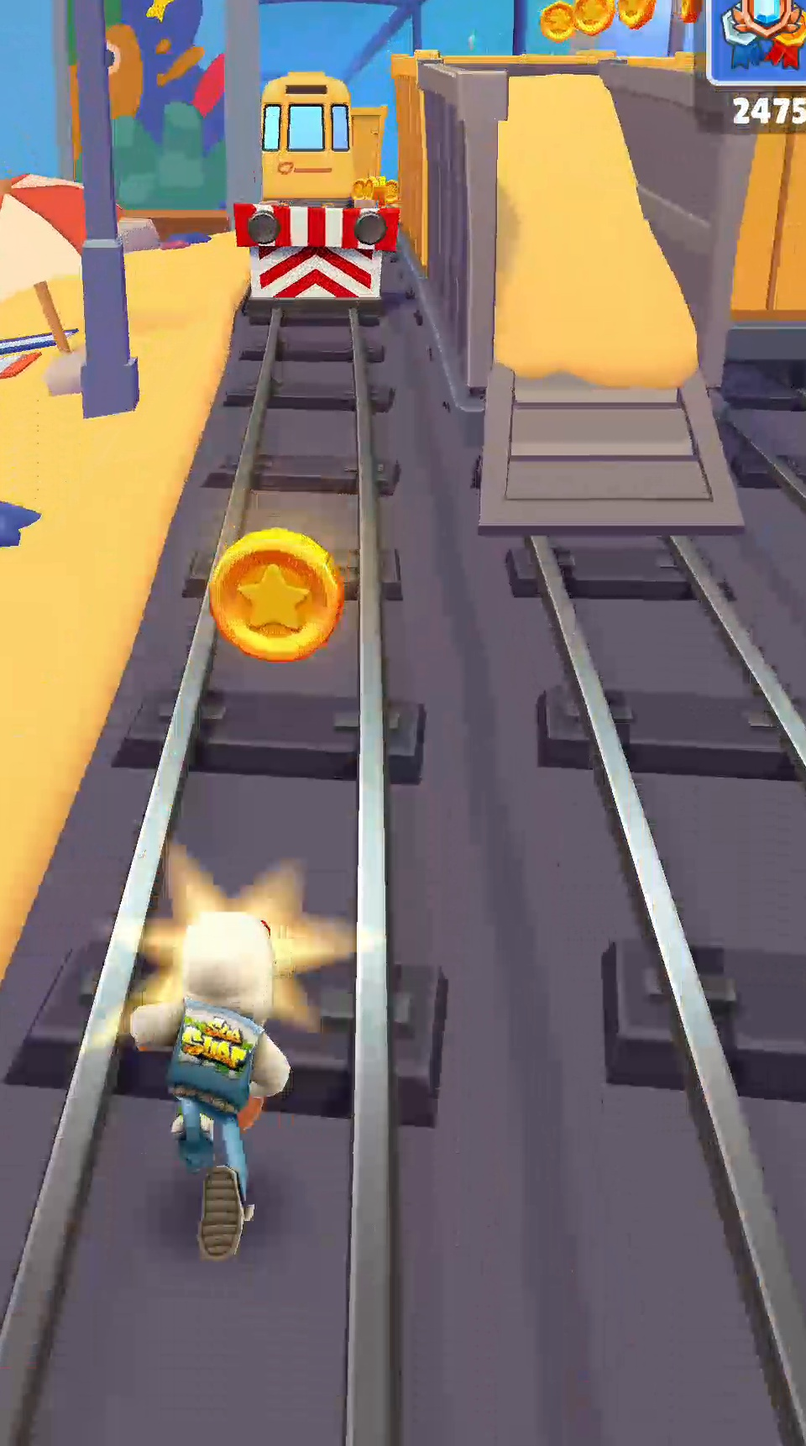climber: (479, 73, 742, 534)
roll blocker: (236, 202, 399, 306)
train: (393, 52, 502, 364), (732, 133, 805, 321), (261, 71, 358, 202), (353, 105, 387, 179)
